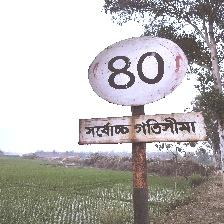Speed-limit: (80, 35, 205, 145)
